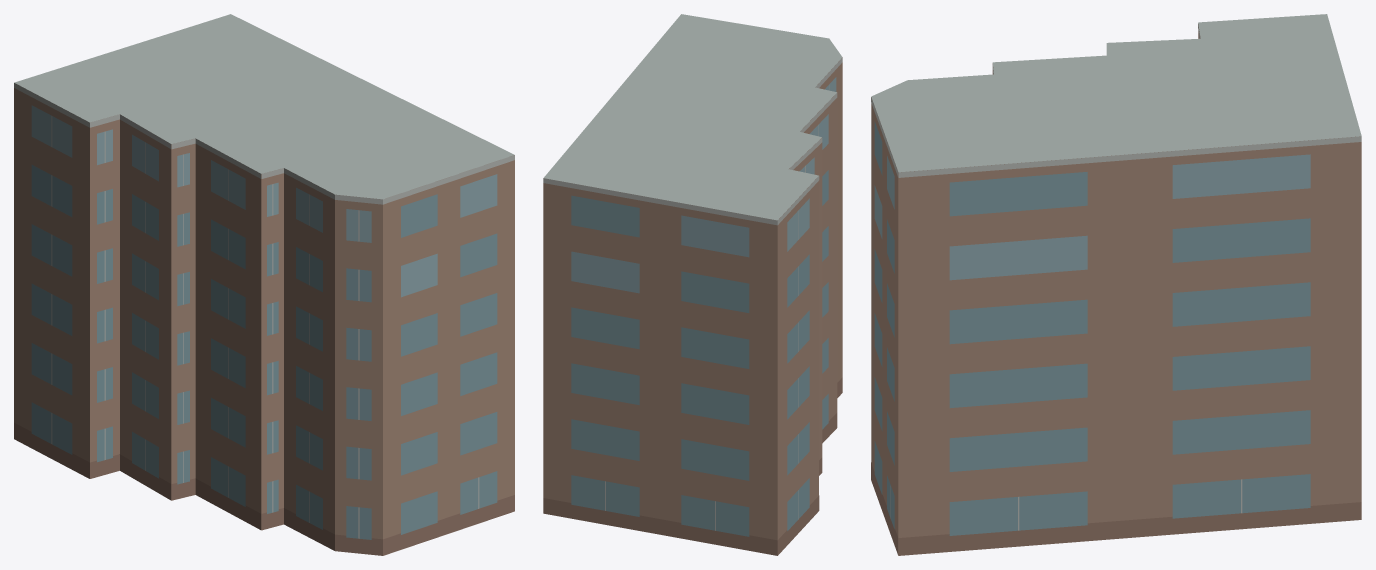
File: survey-upis-32872056.glb
The picture shows the model from 3 angles, left to right: view 1: azimuth 30°, elevation 25°; view 2: azimuth 150°, elevation 25°; view 3: azimuth 270°, elevation 25°; orthographic projection. The views are drawn at different scales.
Parts seen in each view (by area): view 1: survey-upis-32872056.tmp; view 2: survey-upis-32872056.tmp; view 3: survey-upis-32872056.tmp.
Part boxes in pixels (<box>): survey-upis-32872056.tmp: <box>14,14,514,555</box>; survey-upis-32872056.tmp: <box>543,14,842,555</box>; survey-upis-32872056.tmp: <box>871,14,1361,555</box>.
Size of the model in its own units: 14.71 by 16.6 by 19.26.
